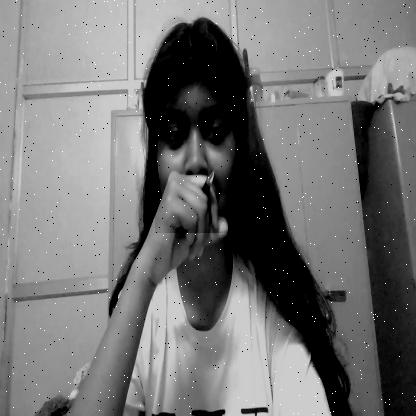Normal: (155, 63, 239, 233)
